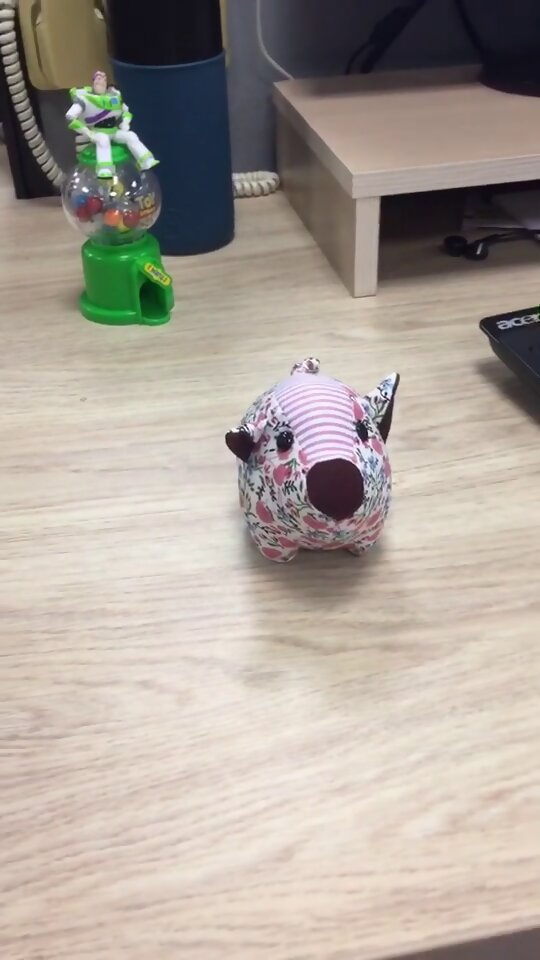pig: (218, 356, 404, 567)
